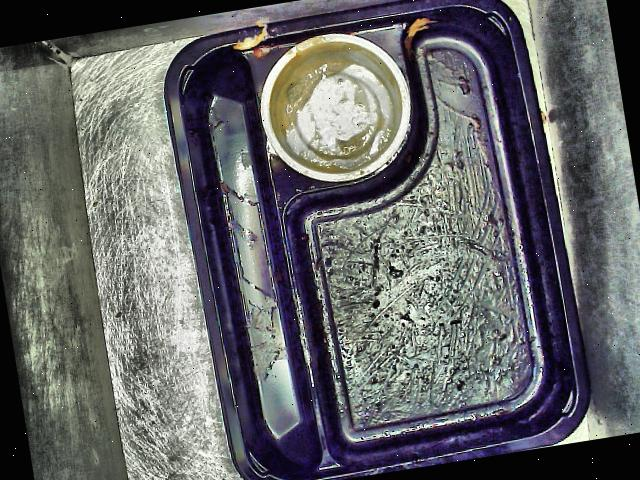Plastic: (152, 0, 640, 480)
